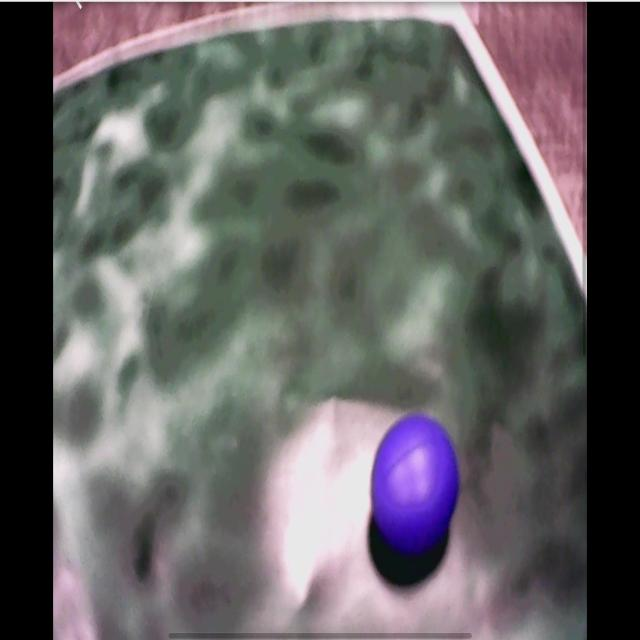ball: (371, 413, 460, 549)
